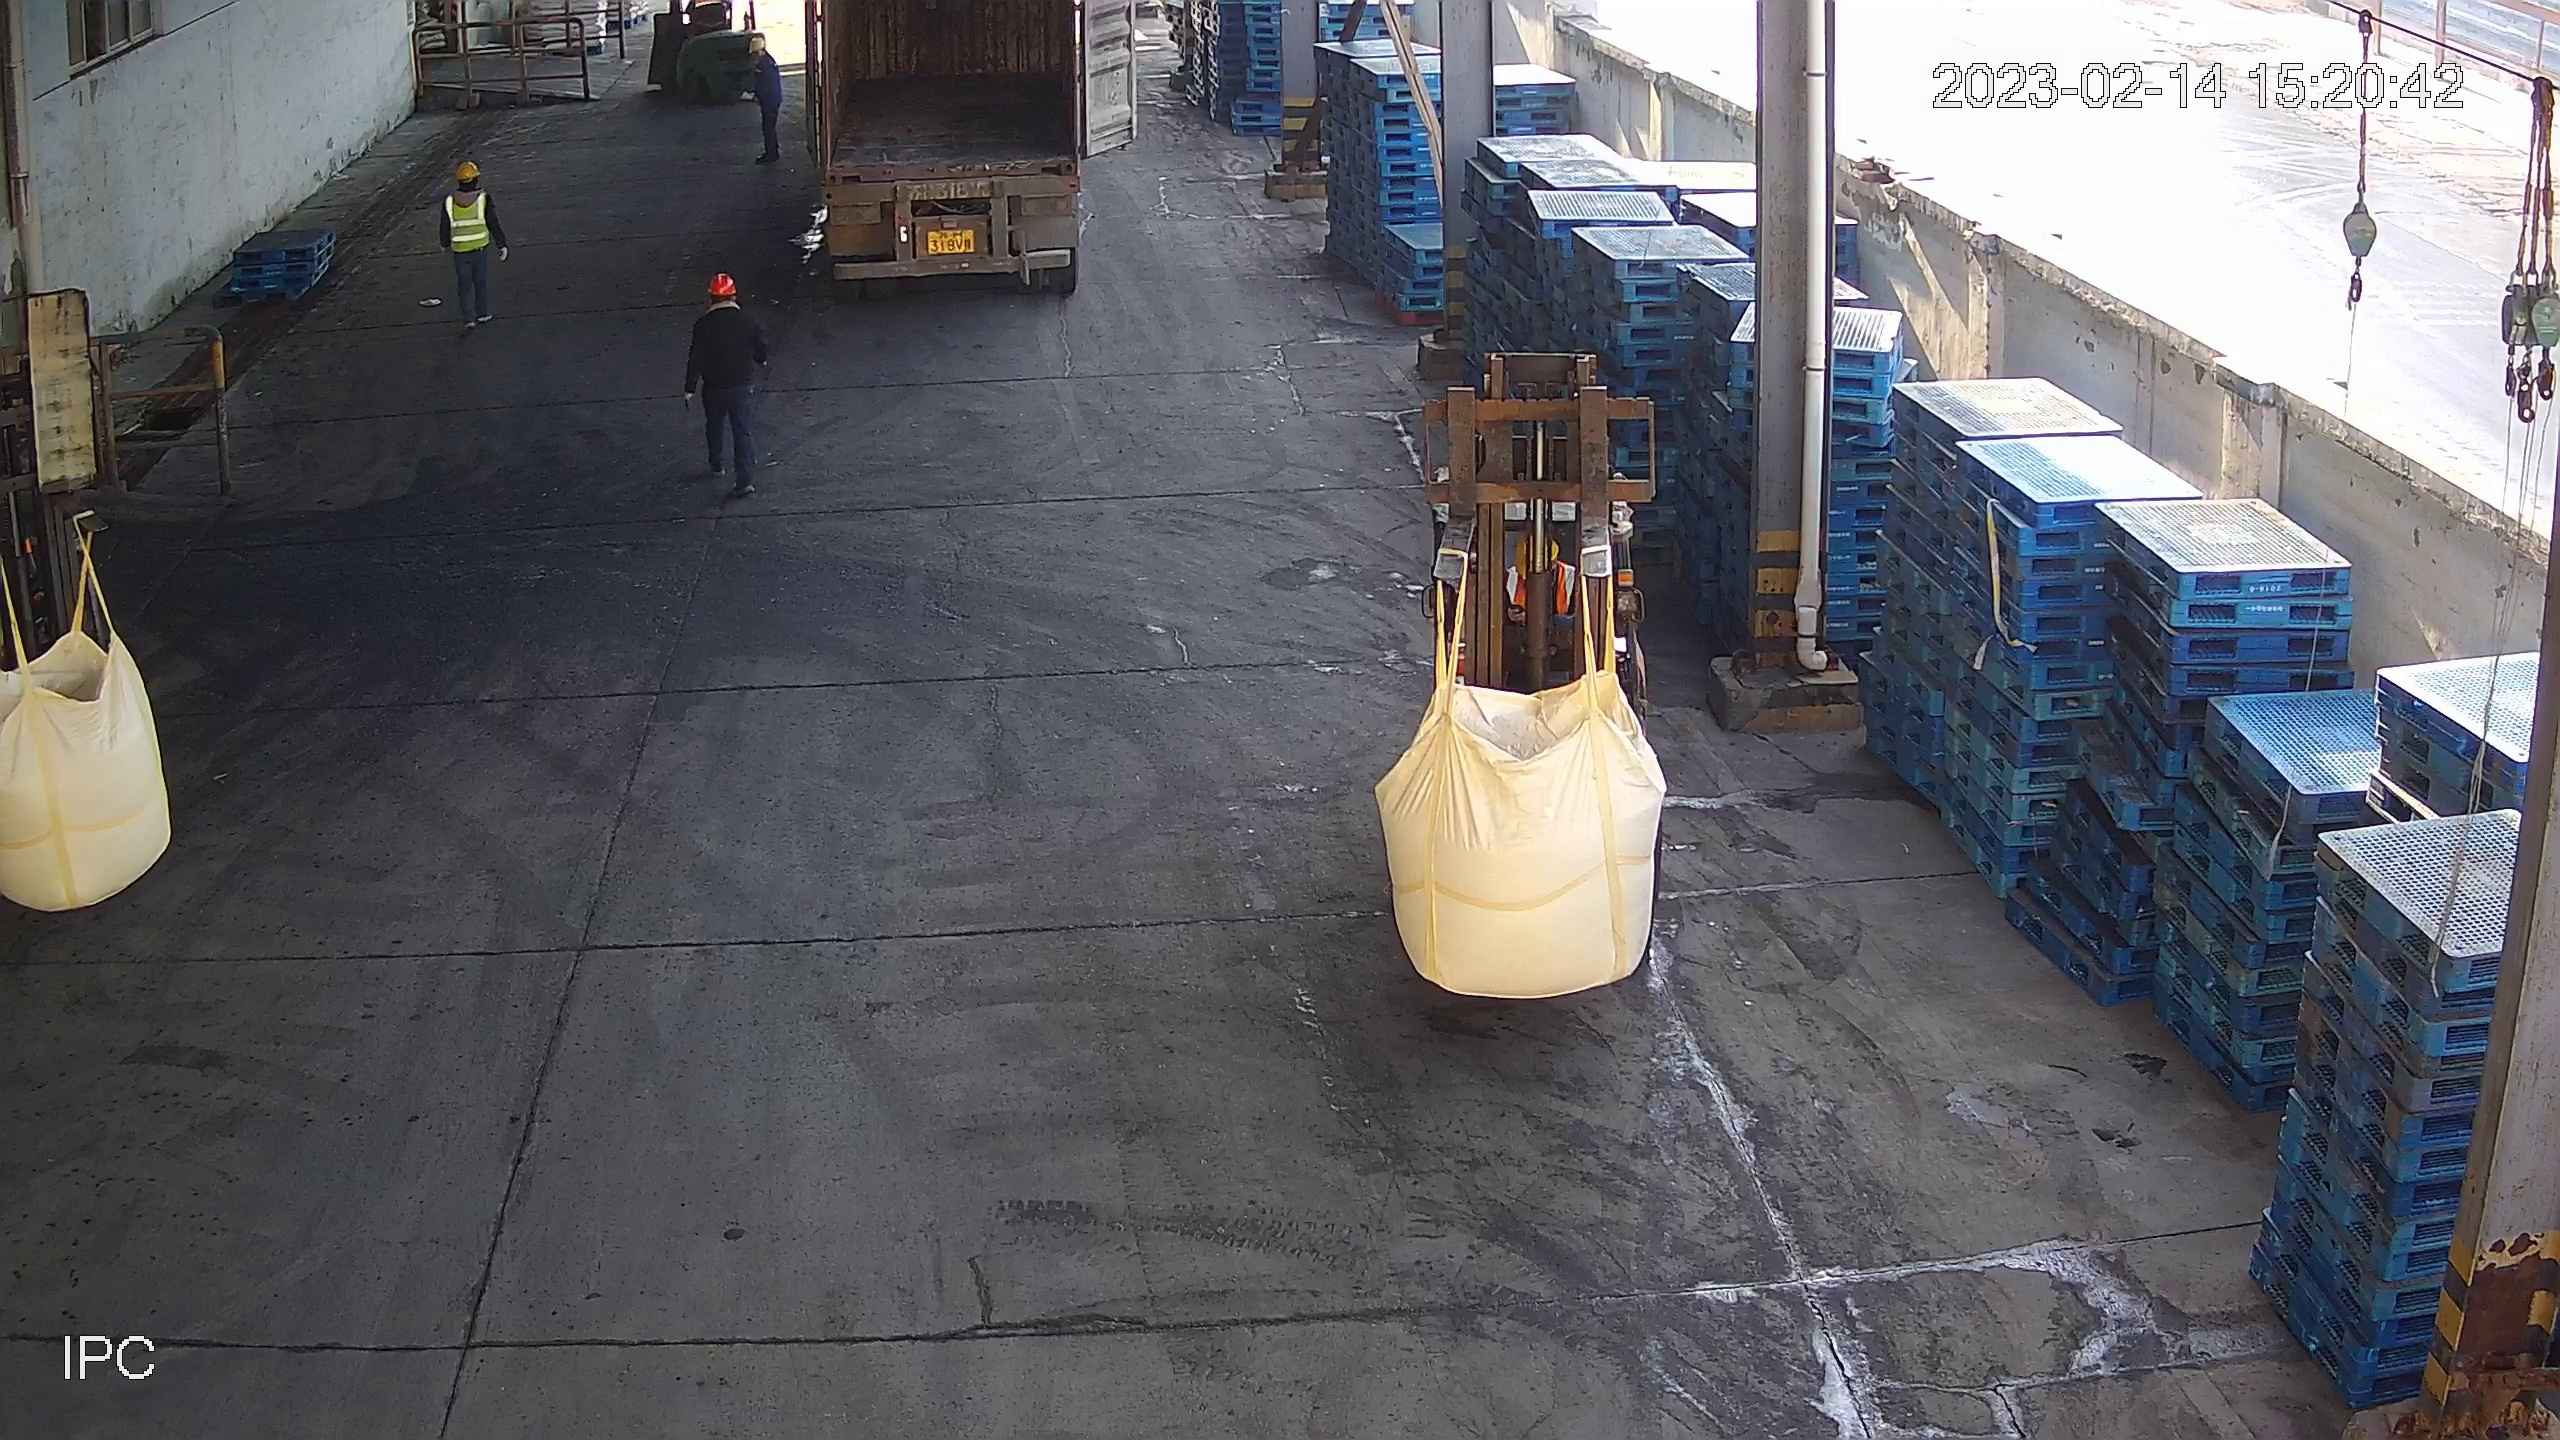head: (694, 267, 756, 339), (441, 160, 492, 213), (748, 36, 778, 77)
helmet: (706, 270, 739, 297), (453, 160, 481, 183), (748, 35, 766, 54)
people: (678, 266, 774, 497), (435, 158, 510, 328), (743, 33, 787, 163)
truck: (798, 1, 1107, 307)
